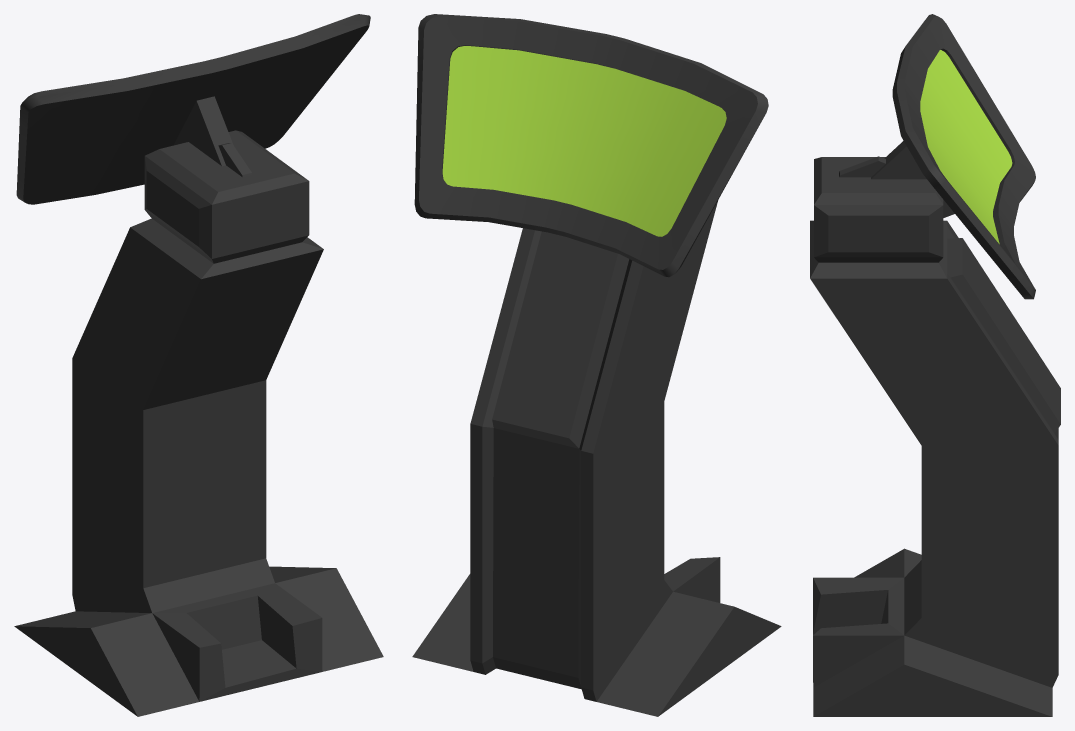
Rendered from mod_monitor.fbx.
3 views of the same model, side by side, from view 1: azimuth 30°, elevation 25°; view 2: azimuth 150°, elevation 25°; view 3: azimuth 270°, elevation 25° (orthographic). The views are drawn at different scales.
Visible parts, largest first — view 1: mod_panel, mod_monitor, Cylinder; view 2: mod_panel, mod_screen, mod_monitor; view 3: mod_panel, mod_monitor, mod_screen, Cylinder.
Part boxes in pixels (left/top/right/bottom): mod_panel: left=14, top=130, right=383, bottom=716; mod_monitor: left=16, top=14, right=370, bottom=204; Cylinder: left=218, top=143, right=252, bottom=177; mod_panel: left=412, top=200, right=781, bottom=716; mod_screen: left=442, top=46, right=726, bottom=236; mod_monitor: left=414, top=14, right=768, bottom=277; mod_panel: left=810, top=157, right=1060, bottom=716; mod_monitor: left=871, top=14, right=1035, bottom=299; mod_screen: left=920, top=50, right=1012, bottom=244; Cylinder: left=839, top=156, right=885, bottom=177.
Bounding box in the file's own units: 2.83 × 1.83 × 4.61.
